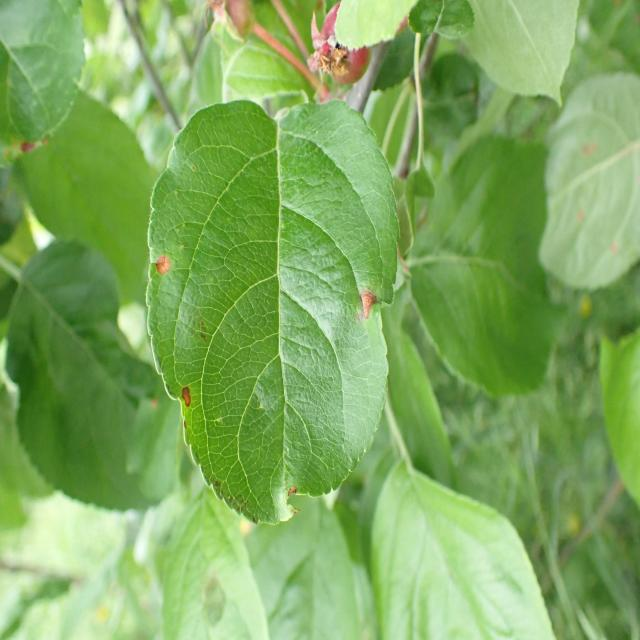Black Rot: (352, 262, 394, 358), (145, 228, 180, 300), (172, 364, 207, 435)
